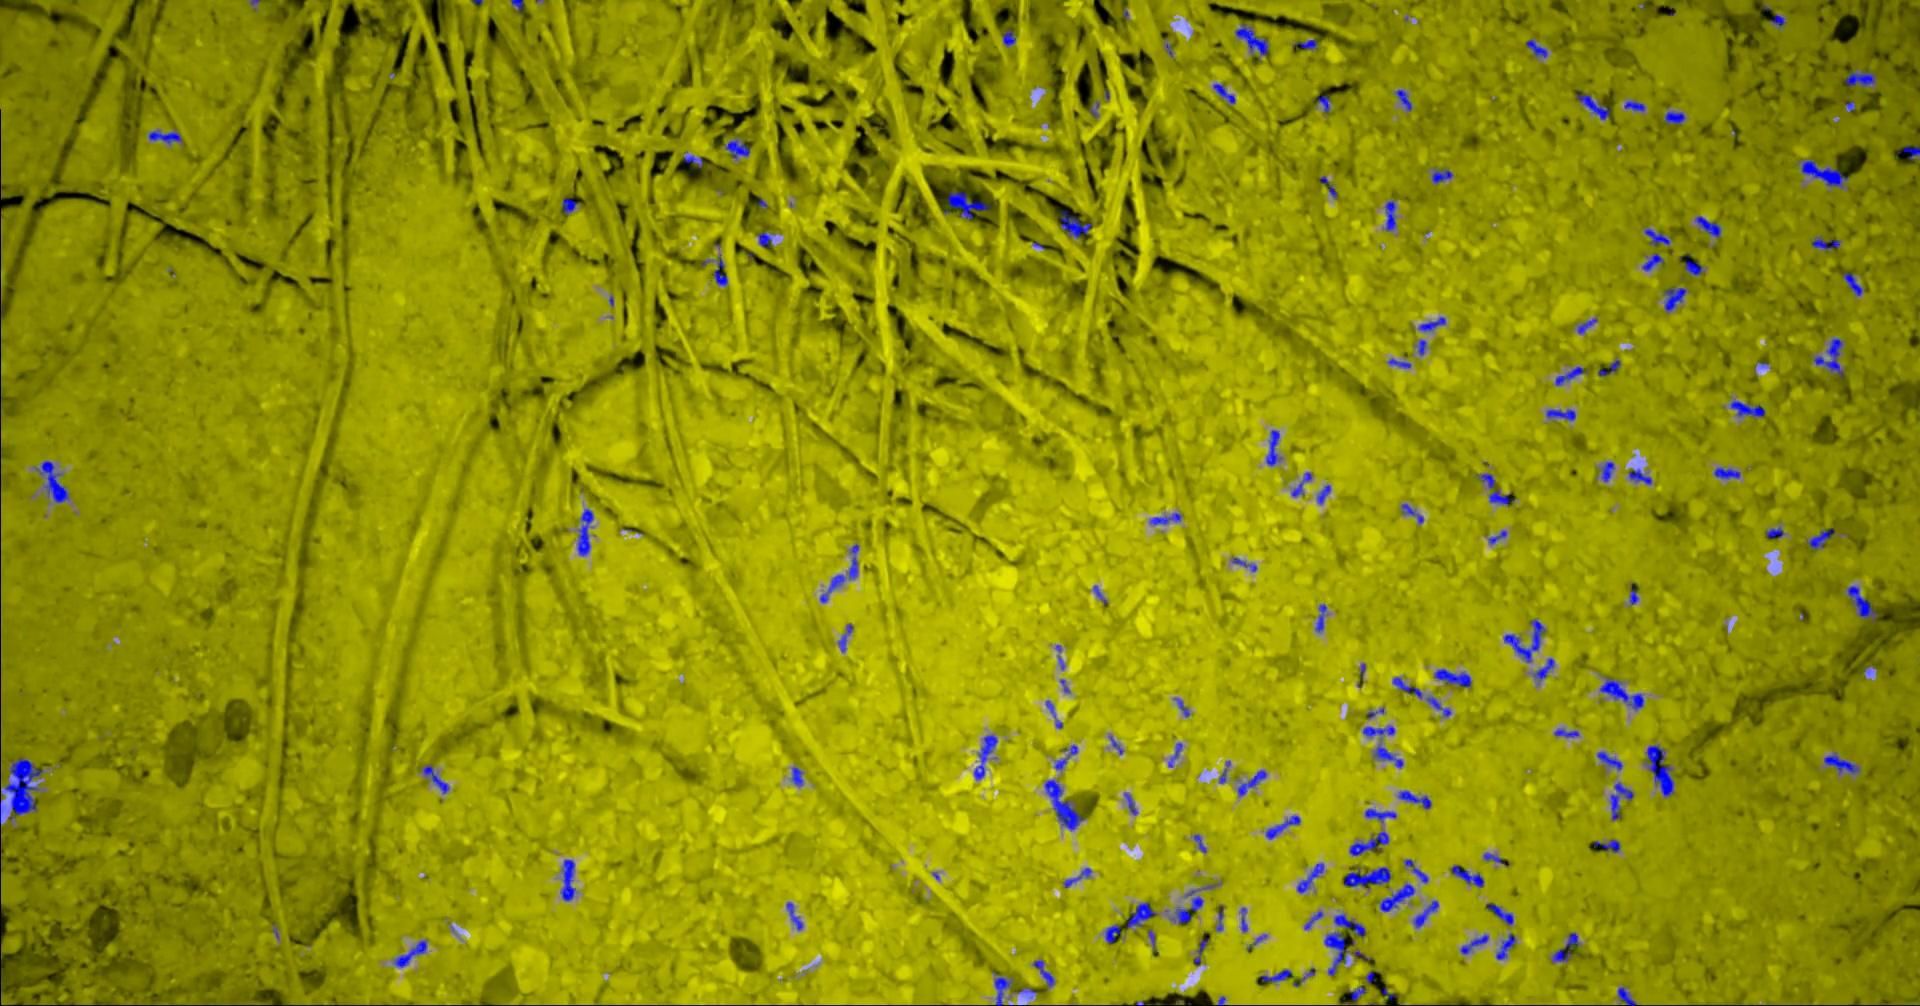ant: (819, 542, 858, 602), (1044, 779, 1083, 829), (1503, 619, 1545, 662), (1644, 744, 1672, 796), (1599, 677, 1643, 709), (36, 460, 69, 502), (1801, 159, 1848, 187), (1813, 337, 1843, 377), (947, 191, 989, 218), (1477, 473, 1514, 504), (1234, 23, 1269, 55), (1323, 931, 1347, 976), (1171, 890, 1203, 923), (973, 735, 997, 779), (1848, 586, 1876, 622), (1575, 91, 1610, 119), (1379, 883, 1415, 911), (1058, 210, 1092, 238), (1343, 866, 1390, 887), (1349, 831, 1388, 855), (1265, 815, 1300, 840), (394, 940, 425, 967), (1610, 782, 1633, 819), (422, 765, 450, 793), (1297, 862, 1323, 892), (1552, 932, 1578, 962), (577, 508, 593, 555), (1823, 752, 1859, 774), (1237, 770, 1266, 795), (1126, 902, 1156, 927), (1450, 865, 1483, 887), (1434, 668, 1470, 687), (1373, 744, 1403, 767), (1333, 915, 1365, 936), (992, 970, 1011, 1005), (1413, 901, 1437, 927), (560, 859, 575, 901), (1392, 677, 1421, 699), (1032, 959, 1054, 987), (1265, 429, 1281, 465), (1398, 790, 1431, 808), (1694, 215, 1719, 238), (1807, 527, 1834, 549), (1486, 902, 1512, 923), (1460, 934, 1488, 954), (1730, 400, 1764, 417), (1677, 253, 1702, 276), (1663, 287, 1686, 311), (1556, 366, 1583, 385), (1063, 868, 1091, 887), (1844, 70, 1876, 86), (1054, 746, 1077, 768), (1404, 859, 1427, 882), (1495, 934, 1515, 959), (1211, 83, 1236, 103), (1426, 696, 1450, 716), (1596, 751, 1622, 770), (147, 130, 182, 144), (1533, 658, 1554, 680), (712, 254, 728, 285), (1401, 503, 1423, 523), (786, 902, 803, 930), (1258, 968, 1291, 982), (725, 138, 749, 158), (837, 622, 852, 652), (1364, 808, 1396, 822), (1641, 251, 1663, 271), (1843, 272, 1862, 295), (1291, 473, 1310, 495), (1644, 227, 1669, 245), (1811, 236, 1839, 251), (1319, 175, 1337, 198), (1418, 316, 1445, 332), (1192, 937, 1208, 964), (1149, 512, 1181, 525), (1167, 742, 1182, 767), (1597, 359, 1620, 376), (1628, 467, 1651, 484), (1545, 408, 1575, 420), (1617, 986, 1636, 1005), (1526, 39, 1547, 57), (1384, 199, 1396, 230), (1592, 840, 1619, 852), (1303, 911, 1322, 929), (1232, 558, 1256, 572), (1396, 89, 1411, 111), (1363, 725, 1394, 735), (1103, 923, 1120, 942), (1576, 318, 1596, 333), (1663, 111, 1685, 124), (1124, 793, 1137, 815), (1431, 169, 1451, 183), (1600, 461, 1614, 481), (1316, 484, 1330, 504), (1316, 605, 1326, 633), (1293, 38, 1317, 50), (1897, 146, 1919, 159), (1713, 467, 1740, 478), (1347, 984, 1365, 1000), (1387, 357, 1410, 368), (561, 197, 577, 213), (1316, 95, 1330, 113), (1487, 530, 1506, 542), (791, 766, 803, 786), (1768, 13, 1785, 25), (1623, 100, 1644, 111), (683, 155, 702, 166), (1554, 728, 1578, 737), (757, 231, 771, 246), (1002, 29, 1015, 44), (1765, 527, 1784, 537), (1483, 852, 1502, 862), (1629, 583, 1637, 605), (1416, 339, 1426, 354), (510, 0, 523, 11)
